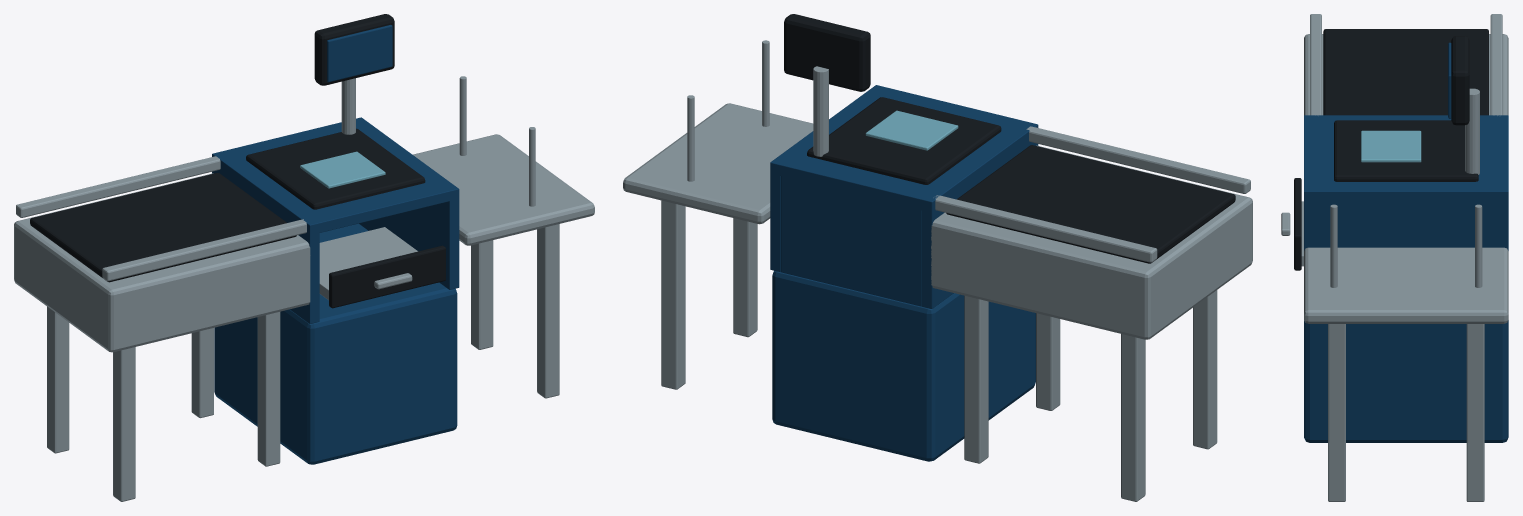
3 views of the same model, side by side, from view 1: azimuth 30°, elevation 25°; view 2: azimuth 150°, elevation 25°; view 3: azimuth 270°, elevation 25° (orthographic). The views are drawn at different scales.
Visible parts, largest first — view 1: BODY_Lower, CONVEYOR_Base, CONVEYOR_Belt, BAGGING_Surface, BODY_Top, SCANNER_Plate, DRAWER_Front, LEG.004, BODY_Side, LEG.002, LEG, LEG.001 (+11 smaller); view 2: BODY_Lower, CONVEYOR_Base, CONVEYOR_Belt, BODY_Back, BAGGING_Surface, BODY_Top, SCANNER_Plate, POS_Housing, LEG.005, LEG.003, LEG.001, LEG (+10 smaller); view 3: BODY_Lower, BAGGING_Surface, CONVEYOR_Belt, BODY_Side, BODY_Top, SCANNER_Plate, LEG.005, LEG.004, SCANNER_Window, POS_Housing, CONVEYOR_Base, CONVEYOR_Rail (+6 smaller).
Part boxes in pixels (bbox=[...]): BODY_Lower: bbox=[214, 223, 457, 464]; CONVEYOR_Base: bbox=[14, 173, 310, 352]; CONVEYOR_Belt: bbox=[30, 173, 296, 282]; BAGGING_Surface: bbox=[413, 134, 594, 245]; BODY_Top: bbox=[212, 117, 459, 233]; SCANNER_Plate: bbox=[246, 128, 425, 209]; DRAWER_Front: bbox=[329, 245, 445, 308]; LEG.004: bbox=[537, 224, 559, 398]; BODY_Side: bbox=[359, 194, 459, 289]; LEG.002: bbox=[257, 312, 280, 466]; LEG: bbox=[113, 347, 135, 501]; LEG.001: bbox=[47, 306, 69, 453]; BODY_Lower: bbox=[772, 270, 1035, 461]; CONVEYOR_Base: bbox=[931, 145, 1252, 339]; CONVEYOR_Belt: bbox=[946, 145, 1235, 263]; BODY_Back: bbox=[781, 172, 921, 306]; BAGGING_Surface: bbox=[623, 103, 813, 224]; BODY_Top: bbox=[770, 85, 1038, 212]; SCANNER_Plate: bbox=[807, 97, 1001, 184]; POS_Housing: bbox=[784, 14, 870, 91]; LEG.005: bbox=[661, 200, 685, 389]; LEG.003: bbox=[964, 295, 988, 463]; LEG.001: bbox=[1121, 334, 1145, 501]; LEG: bbox=[1193, 290, 1217, 449]; BODY_Lower: bbox=[1304, 320, 1508, 442]; BAGGING_Surface: bbox=[1304, 247, 1508, 323]; CONVEYOR_Belt: bbox=[1323, 29, 1488, 115]; BODY_Side: bbox=[1304, 197, 1508, 250]; BODY_Top: bbox=[1304, 115, 1508, 201]; SCANNER_Plate: bbox=[1334, 120, 1478, 181]; LEG.005: bbox=[1466, 324, 1484, 501]; LEG.004: bbox=[1328, 324, 1345, 501]; SCANNER_Window: bbox=[1361, 130, 1421, 162]; POS_Housing: bbox=[1451, 36, 1469, 125]; CONVEYOR_Base: bbox=[1304, 34, 1508, 115]; CONVEYOR_Rail: bbox=[1490, 14, 1502, 115].
Size of the model in its own units: 1.95 by 1.38 by 0.755.
